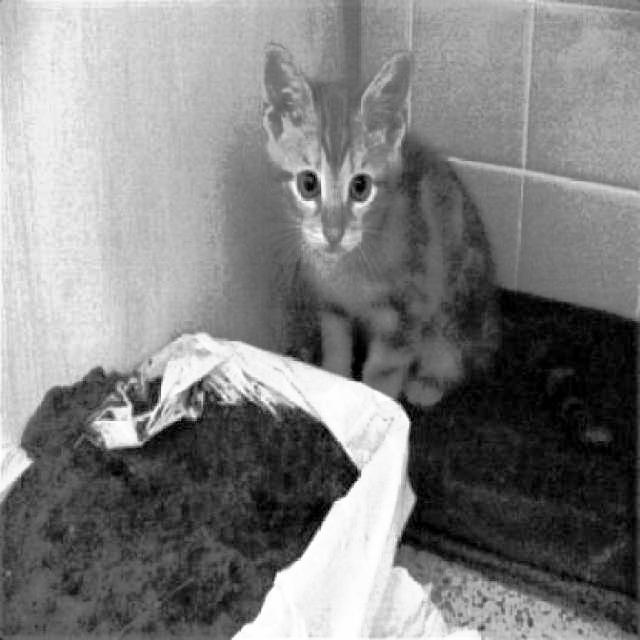Cat: (258, 32, 507, 414)
